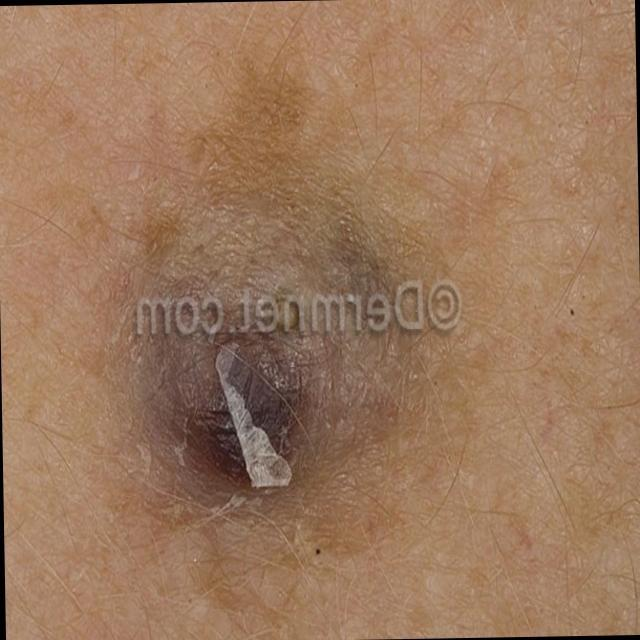Eczema: (113, 104, 416, 534)
